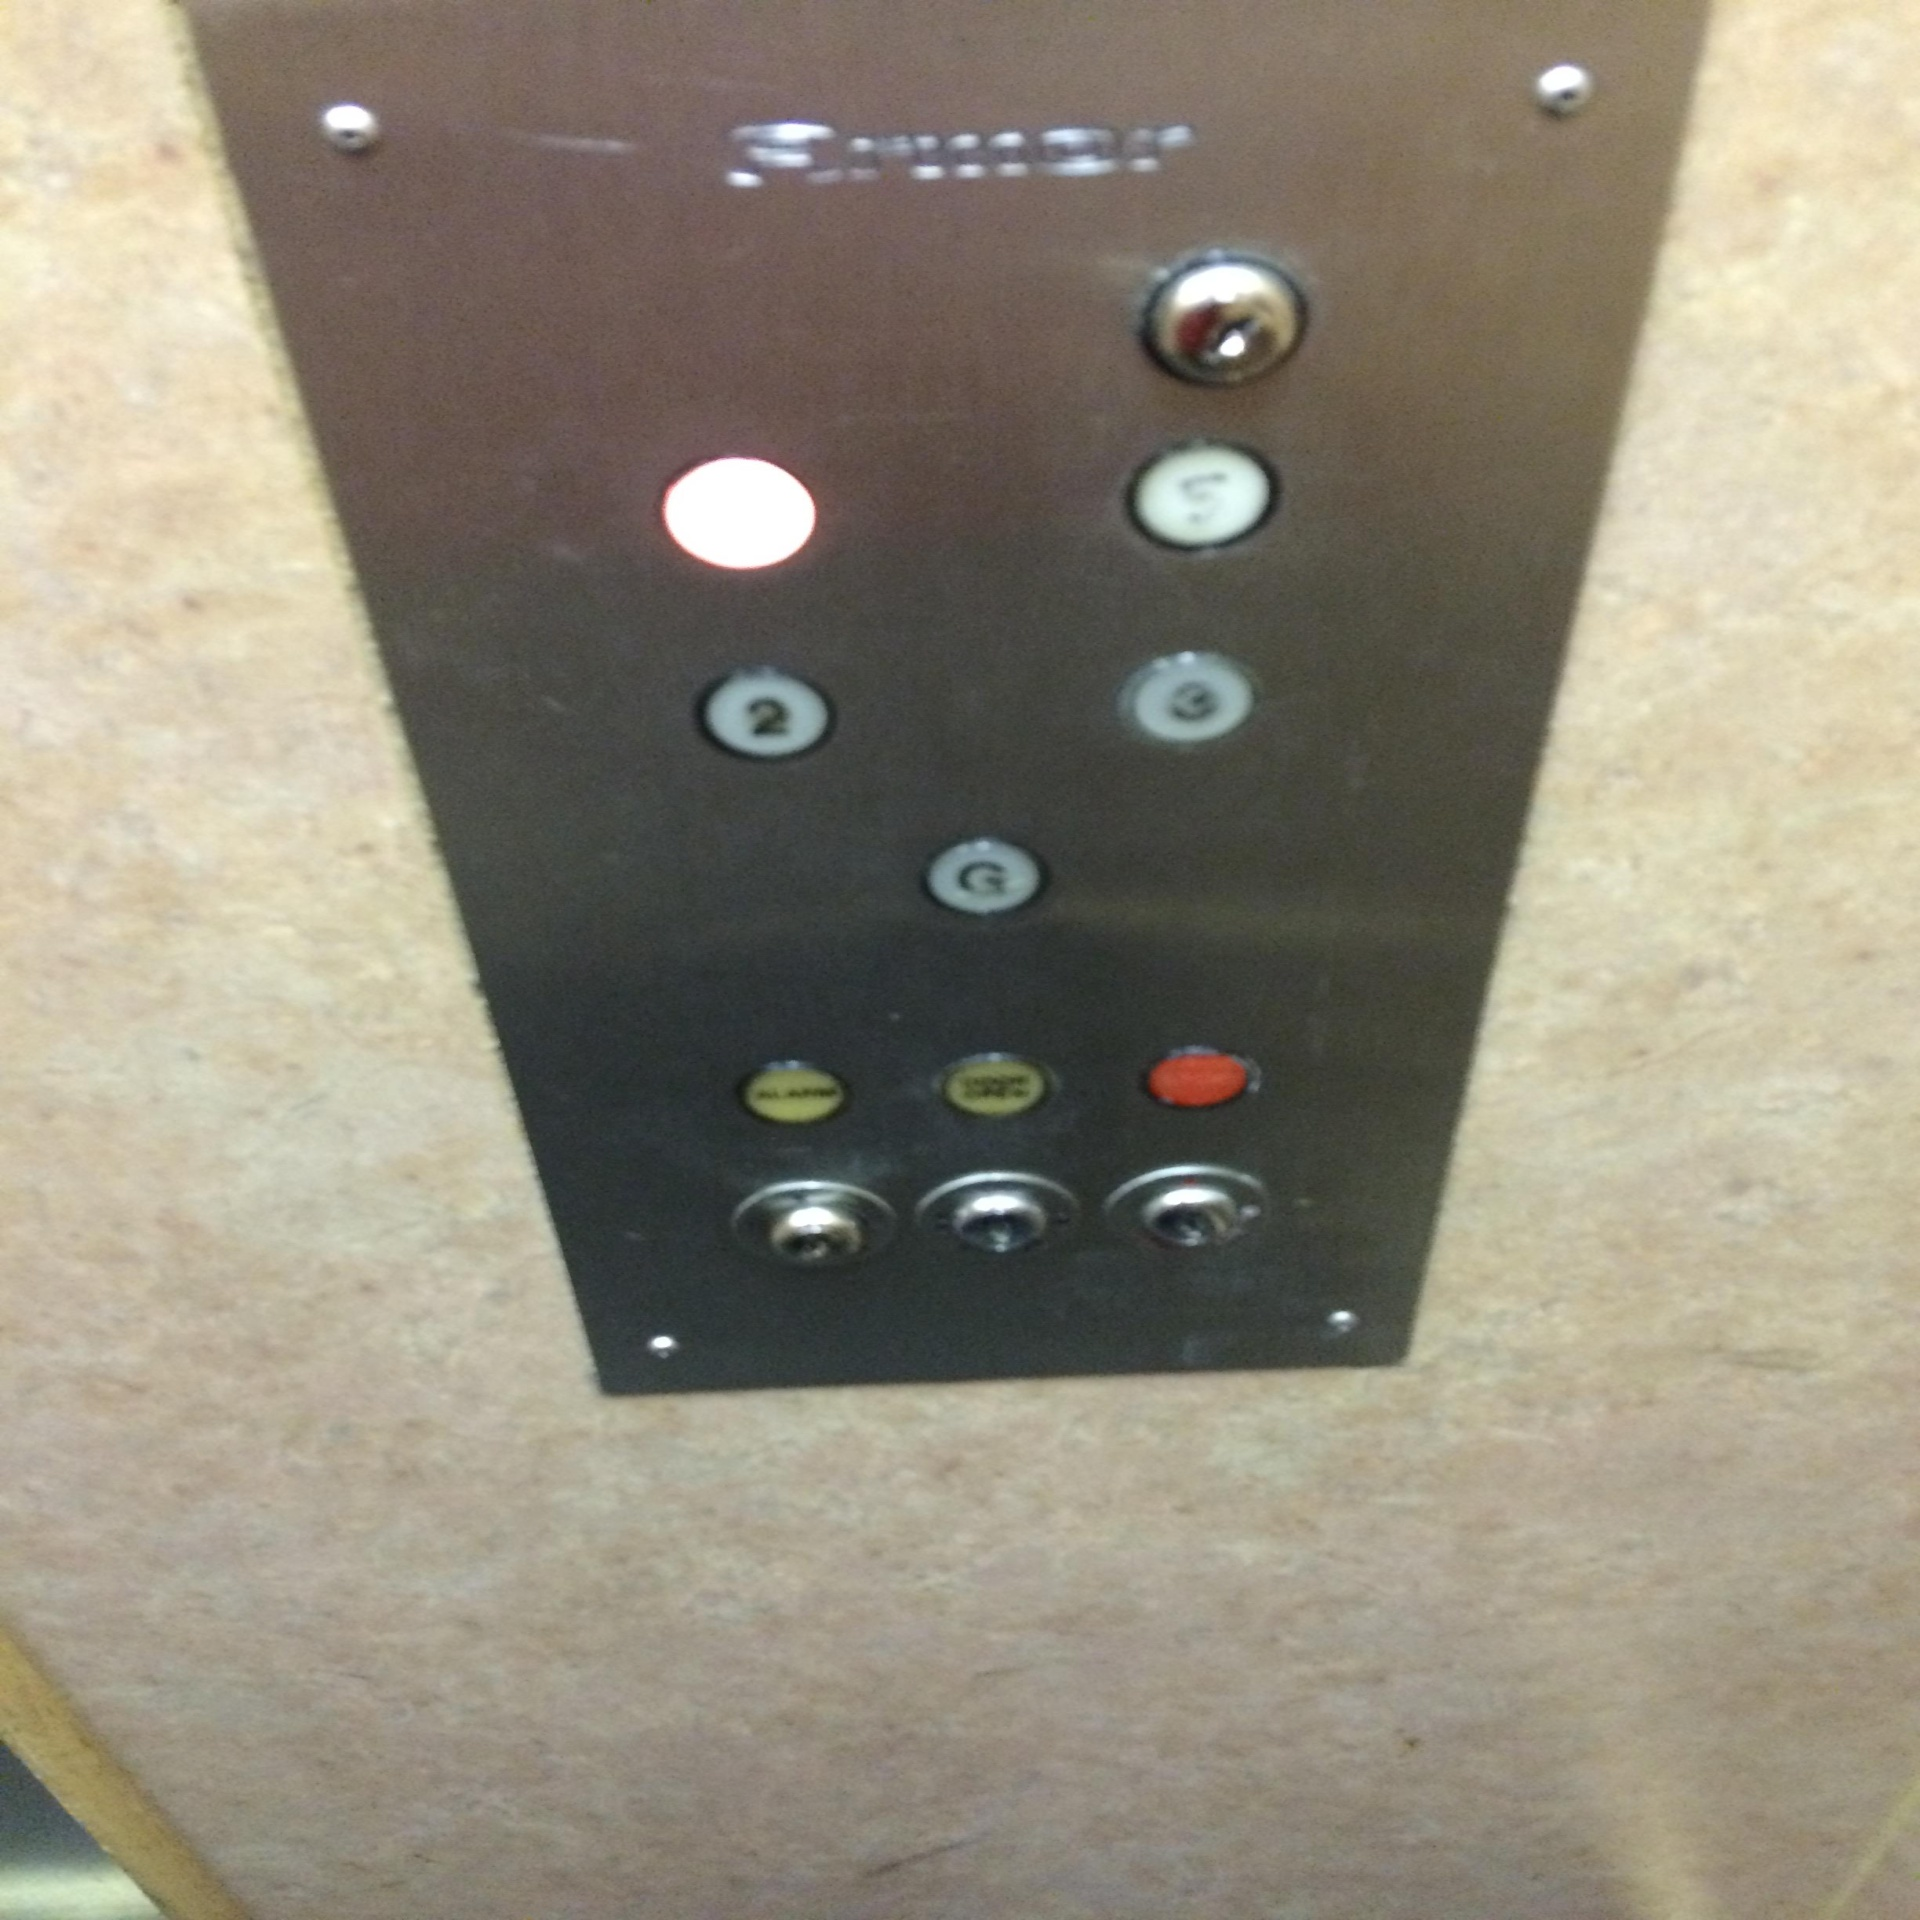2: (689, 658, 847, 774)
3: (1104, 638, 1269, 775)
5: (1108, 427, 1296, 570)
G: (905, 825, 1058, 932)
empty: (652, 445, 826, 580)
keyhole: (1115, 230, 1327, 408), (1104, 1155, 1276, 1269), (914, 1162, 1087, 1276), (728, 1167, 900, 1282)
text_blur: (1131, 1023, 1269, 1138), (925, 1036, 1064, 1139), (730, 1048, 858, 1138)
